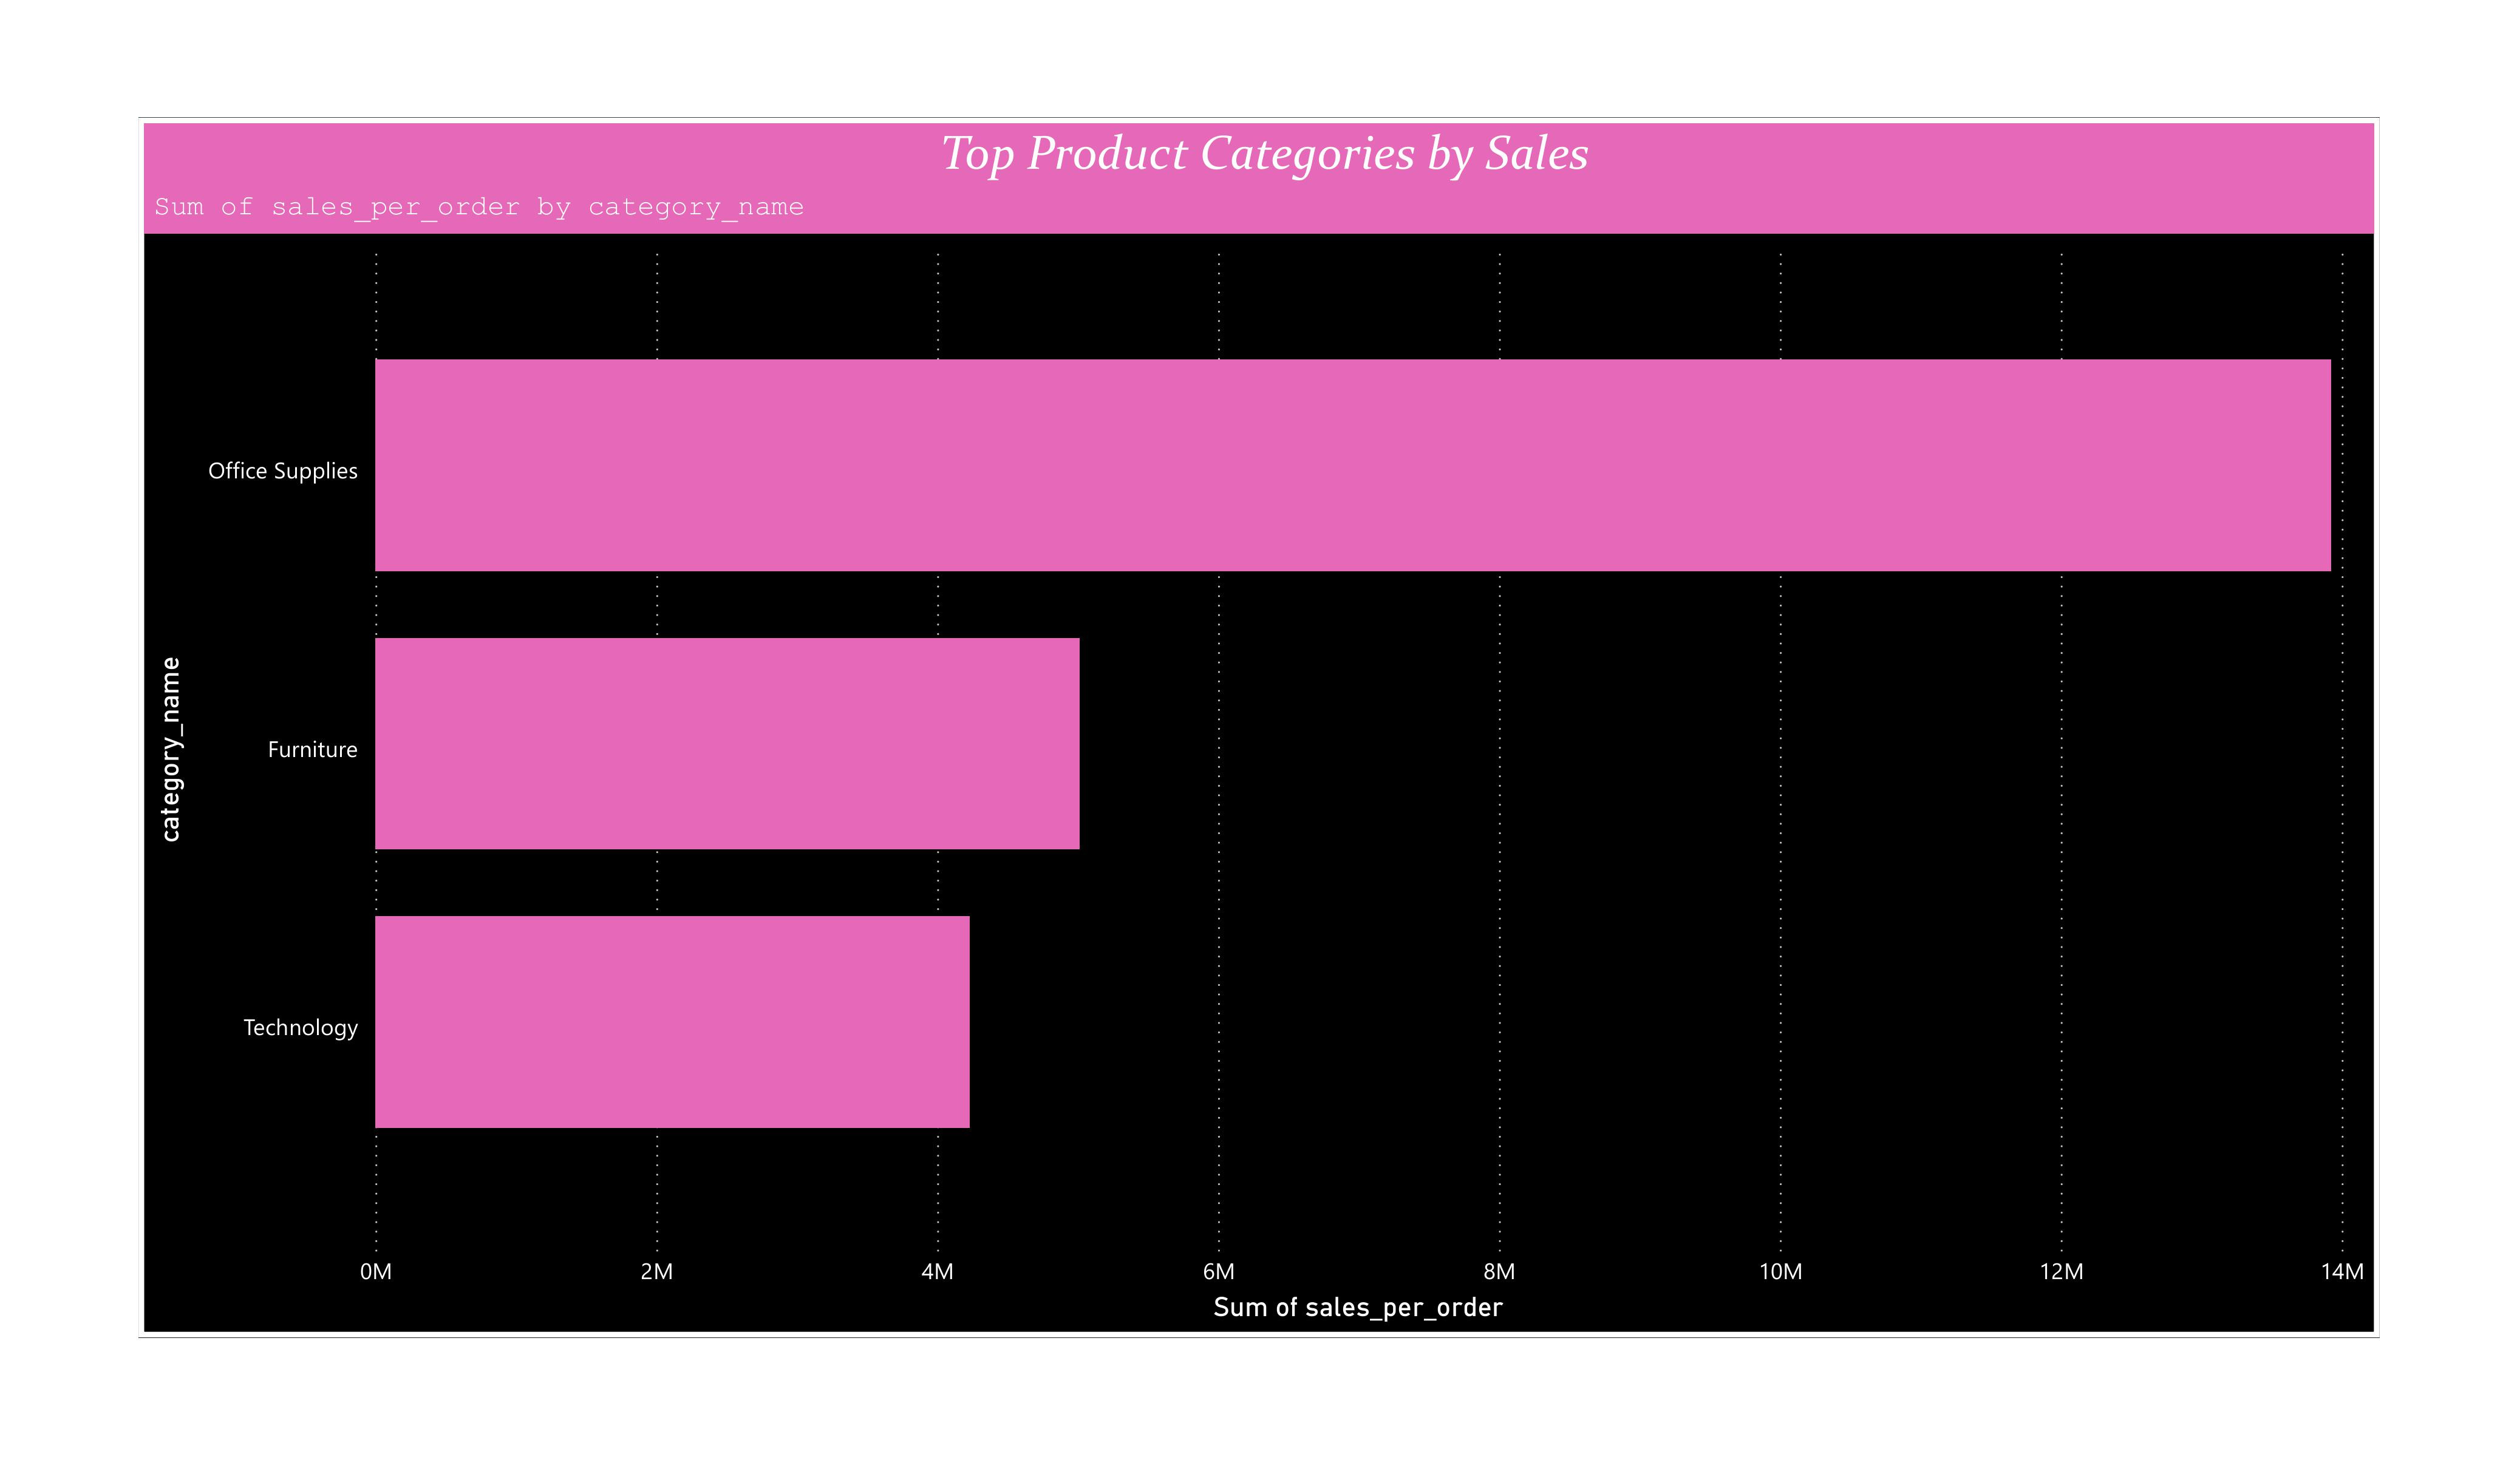

The page's visual inventory and layout, read from the dashboard file:
{"tool":"powerbi","page":{"name":"Top Product Categories by Sales","canvas":[1280,720],"ordinal":2},"visuals":[{"type":"clusteredBarChart","title":"Top Product Categories by Sales","fields":{"Category":["ecommerce_data.category_name"],"Y":["ecommerce_data.sales_per_order"]},"box":[48.9,37.9,1181.3,643.2],"z":0}]}

Visuals, with their boxes on the page's 1280x720 design canvas (x1, y1, x2, y2). These are canvas units, not pixel positions in the 2520x1457 screenshot, which may show the page scaled, cropped or inside an application window:
"Top Product Categories by Sales" clusteredBarChart: 49/38/1230/681
